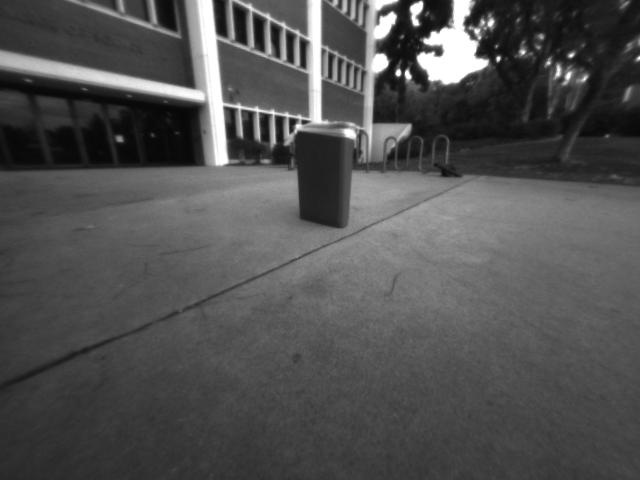trashcan_open: (291, 121, 359, 232)
